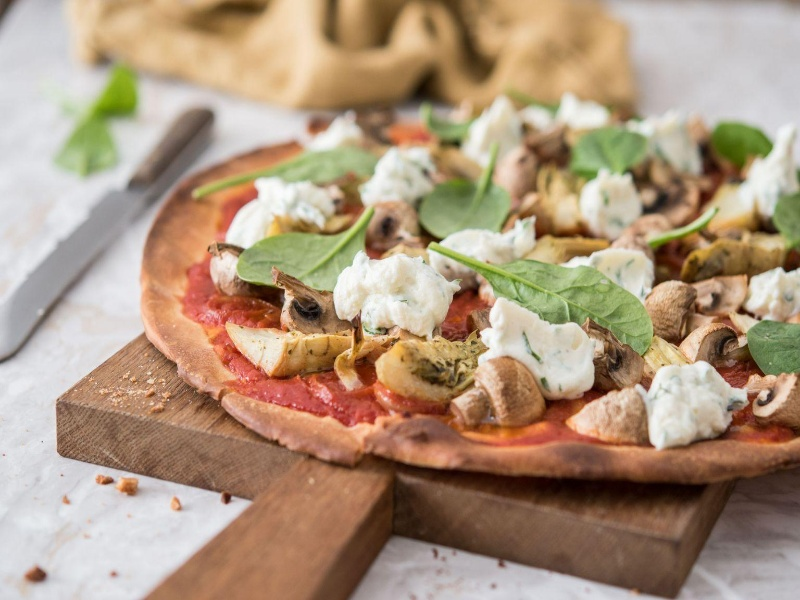champignon: (369, 329, 481, 408), (451, 358, 554, 430), (269, 270, 361, 338), (683, 323, 755, 373), (740, 371, 800, 426)
